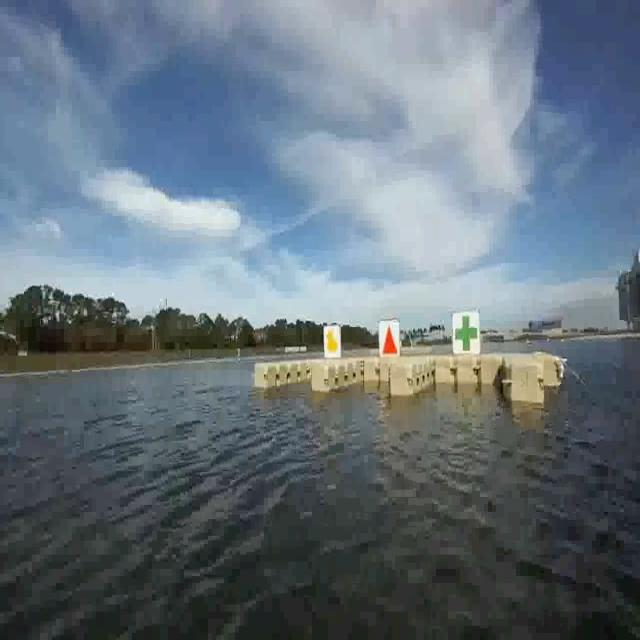blue-cross: (451, 310, 480, 357)
red-dot: (378, 326, 398, 355)
yellow-duck: (326, 328, 339, 353)
